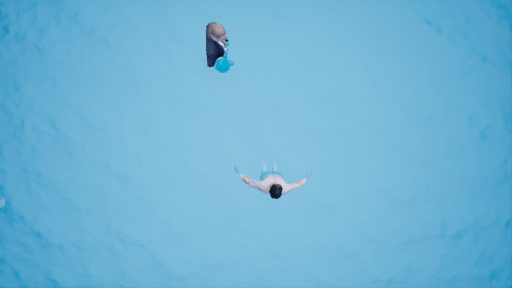person: (219, 150, 317, 198), (197, 11, 245, 83)
